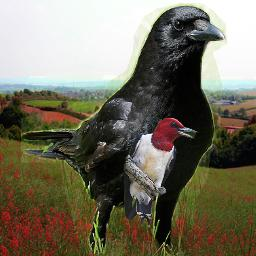Crow: (21, 3, 227, 256)
Woodpecker: (121, 118, 200, 227)
